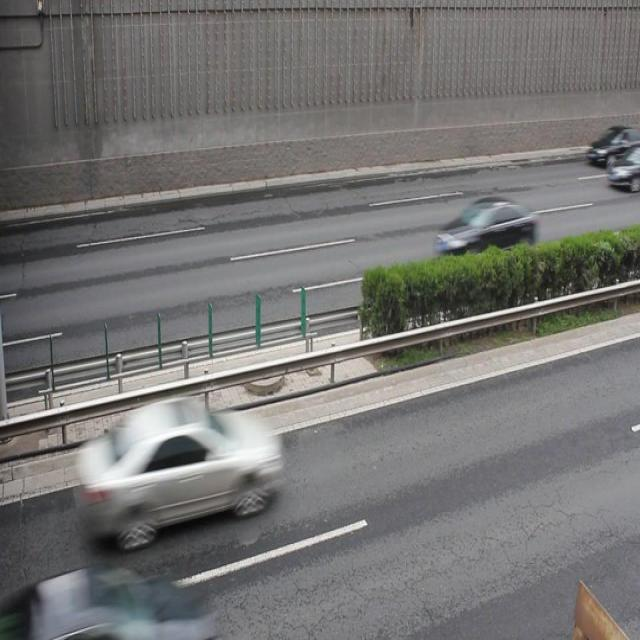car: (80, 396, 280, 546), (28, 564, 207, 640), (435, 194, 534, 272), (586, 124, 640, 166), (604, 146, 640, 191)
